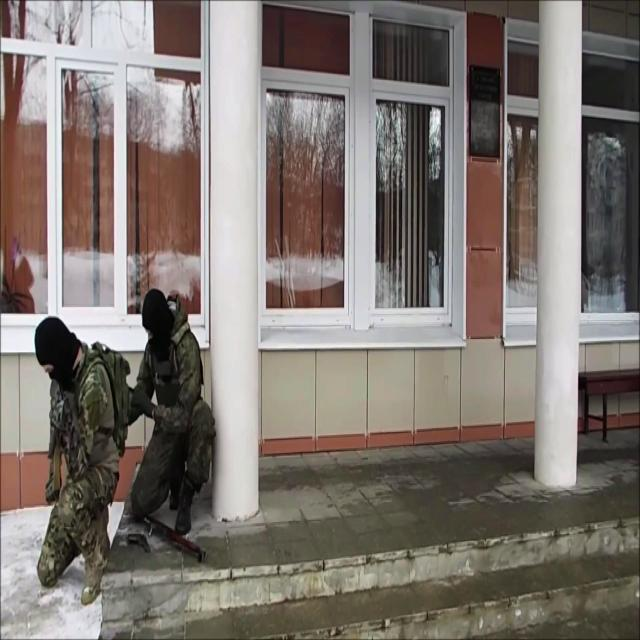gun: (33, 314, 129, 605), (129, 295, 218, 571), (127, 504, 209, 566), (47, 377, 76, 463), (127, 532, 152, 554)
